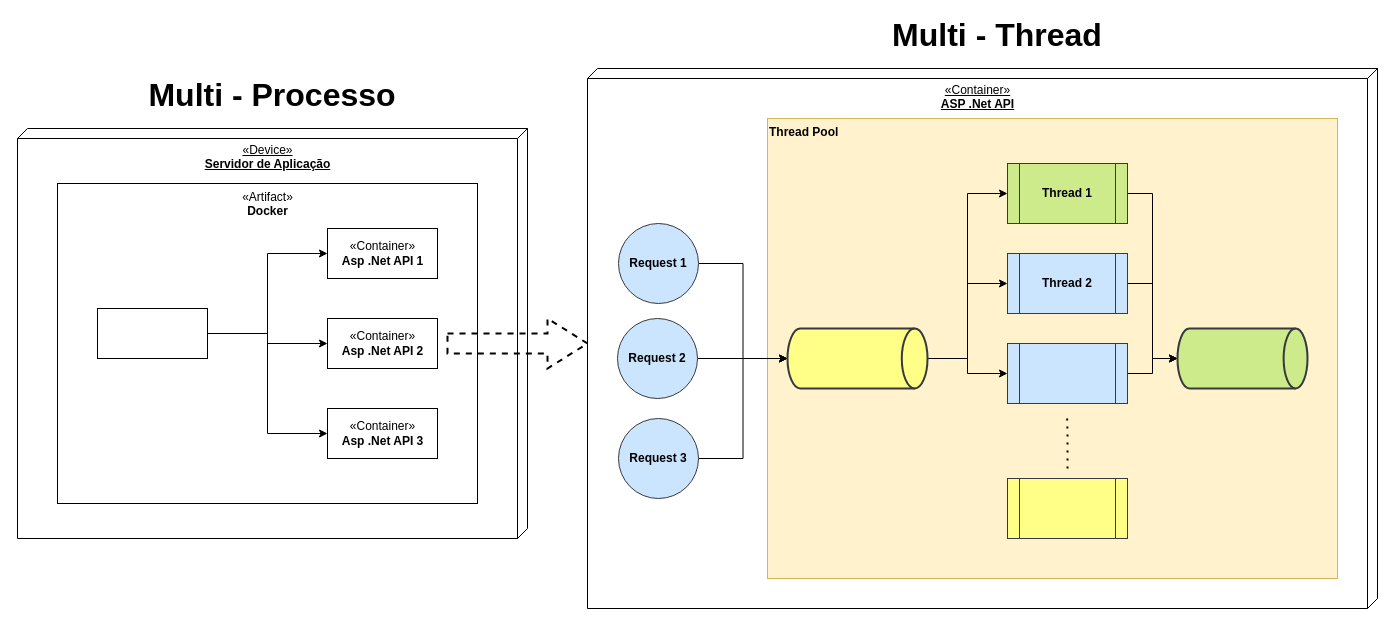
This 1395x626 diagram has some shape labels left out. Here are the shapes that lost their labels. From the top down, the centre of each, then its label:
At pixel 152 333: "«Container» Nginx".
At pixel 857 358: "Task Queue".
At pixel 1067 373: "Thread 3".
At pixel 1242 358: "Completed Tasks".
At pixel 1067 508: "Thread N".
